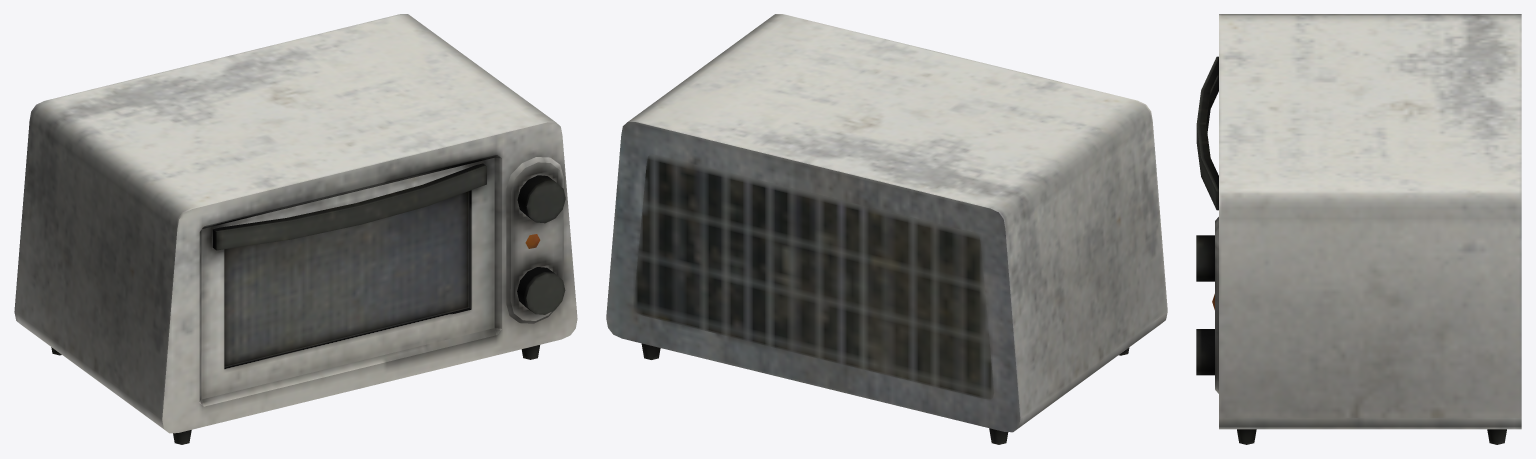
File: Oven.FBX
3 renders of one model, left to right at view 1: azimuth 30°, elevation 25°; view 2: azimuth 150°, elevation 25°; view 3: azimuth 270°, elevation 25°, orthographic. The views are drawn at different scales.
Visible parts, largest first — view 1: Oven; view 2: Oven; view 3: Oven.
Boxes of the visible parts, x1=… form: Oven: x1=14, y1=14, x2=577, y2=444; Oven: x1=606, y1=14, x2=1167, y2=444; Oven: x1=1196, y1=14, x2=1521, y2=444.
Size of the model in its own units: 52.15 by 29.17 by 34.56.
